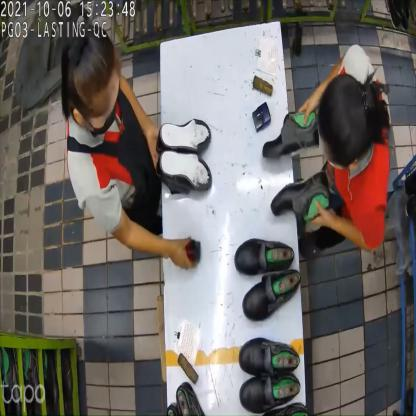shoes: (262, 112, 332, 222), (235, 239, 302, 324), (154, 117, 212, 200)
stamp: (252, 100, 274, 131), (182, 238, 202, 270)
